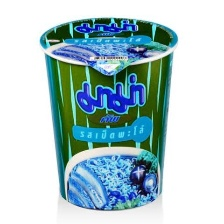paper_cup: (34, 10, 182, 217)
